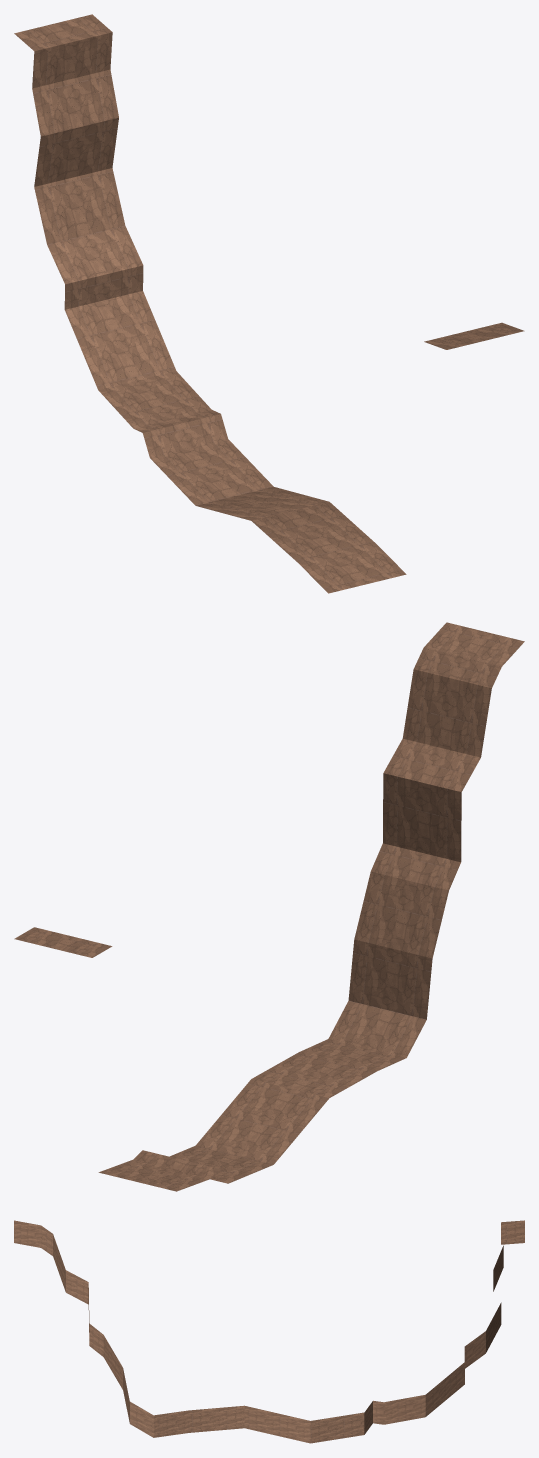
The model's file is kd_stage_1364a3_10_6_bounded.glb.
The picture shows the model from 3 angles, top to bottom: view 1: azimuth 30°, elevation 25°; view 2: azimuth 150°, elevation 25°; view 3: azimuth 270°, elevation 25°; orthographic projection. The views are drawn at different scales.
Visible parts, largest first — view 1: kd_stage_1364a3_10_6_bounded; view 2: kd_stage_1364a3_10_6_bounded; view 3: kd_stage_1364a3_10_6_bounded.
Part boxes in pixels (x1=…): kd_stage_1364a3_10_6_bounded: x1=14, y1=14, x2=524, y2=593; kd_stage_1364a3_10_6_bounded: x1=14, y1=622, x2=524, y2=1191; kd_stage_1364a3_10_6_bounded: x1=14, y1=1220, x2=524, y2=1443.
Bounding box in the file's own units: 0.6225 × 2.58 × 5.95.
1 material, 1 textured.
